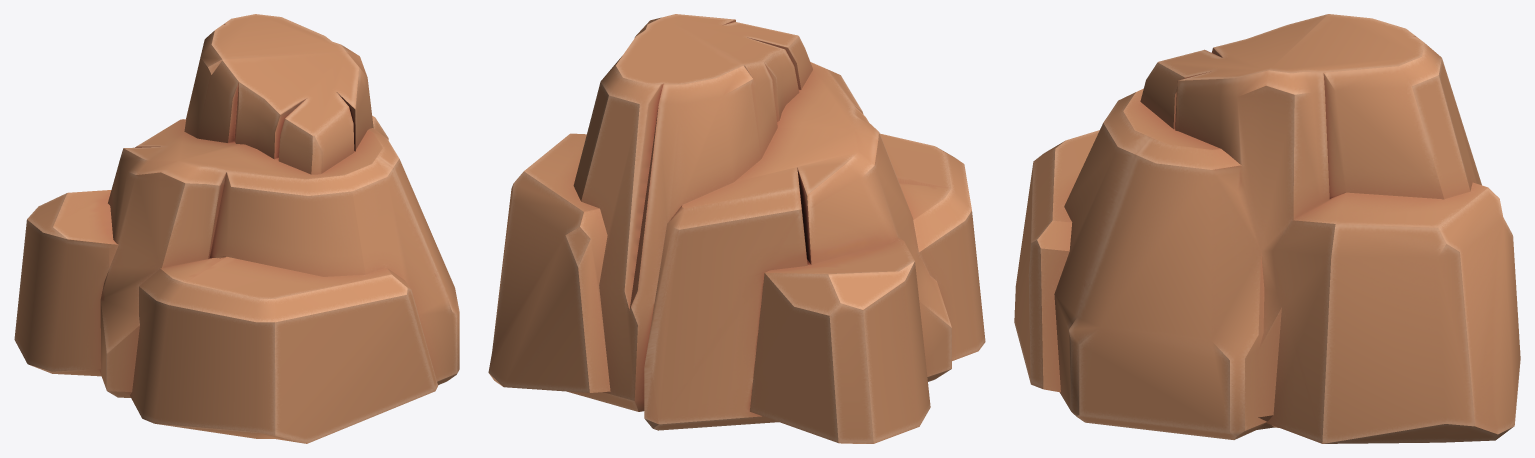
Rendered from rock_2.fbx.
The picture shows the model from 3 angles, left to right: view 1: azimuth 30°, elevation 25°; view 2: azimuth 150°, elevation 25°; view 3: azimuth 270°, elevation 25°; orthographic projection. The views are drawn at different scales.
Visible parts, largest first — view 1: Rock_2; view 2: Rock_2; view 3: Rock_2.
Boxes of the visible parts, x1,y1,x2,y2 form: Rock_2: [14, 14, 459, 443]; Rock_2: [488, 14, 985, 443]; Rock_2: [1014, 14, 1520, 443].
Size of the model in its own units: 1599 by 1236 by 1647.
1 material, 1 textured.
